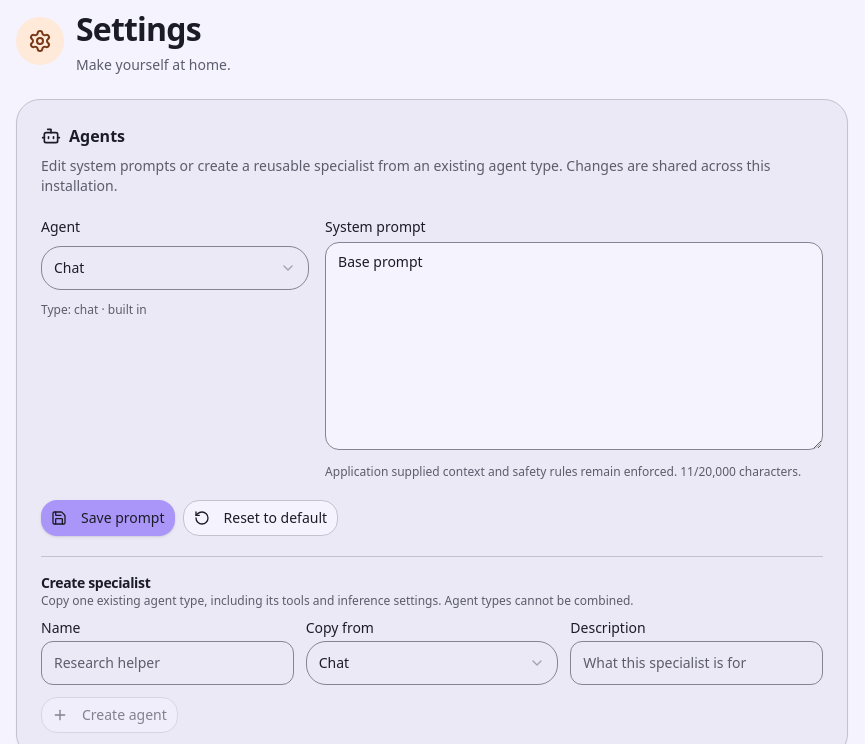
Test: SettingsPage › trims the name sent for a new specialist and selects the created profile
Type "  Research helper  " into the field labelled "Name". click: (167, 663)
box: [41, 641, 294, 685]
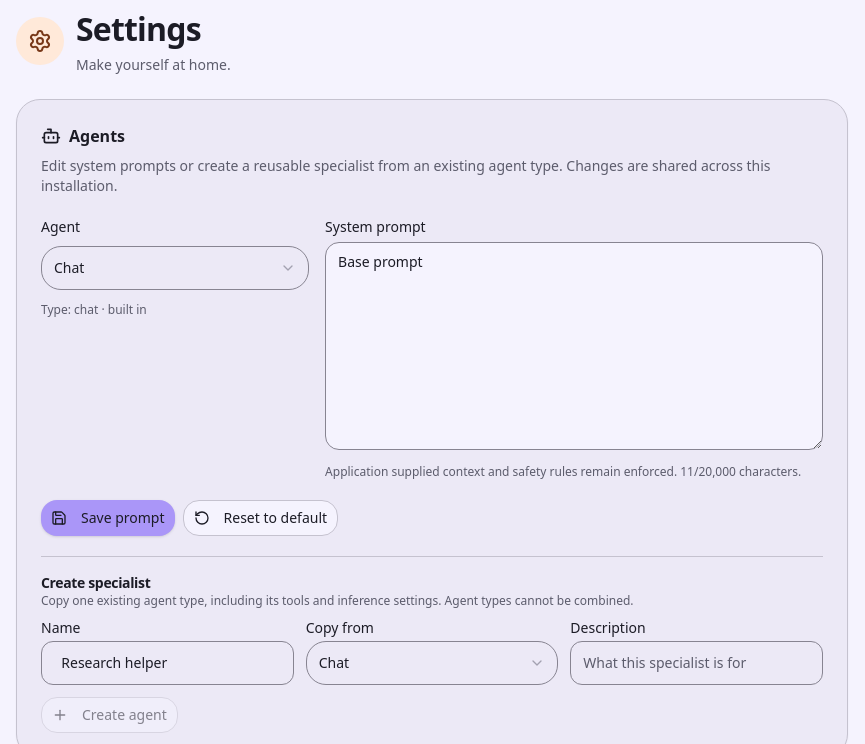
Type "Research notes" into the field labelled "Description". click: (697, 663)
box: [570, 641, 823, 685]
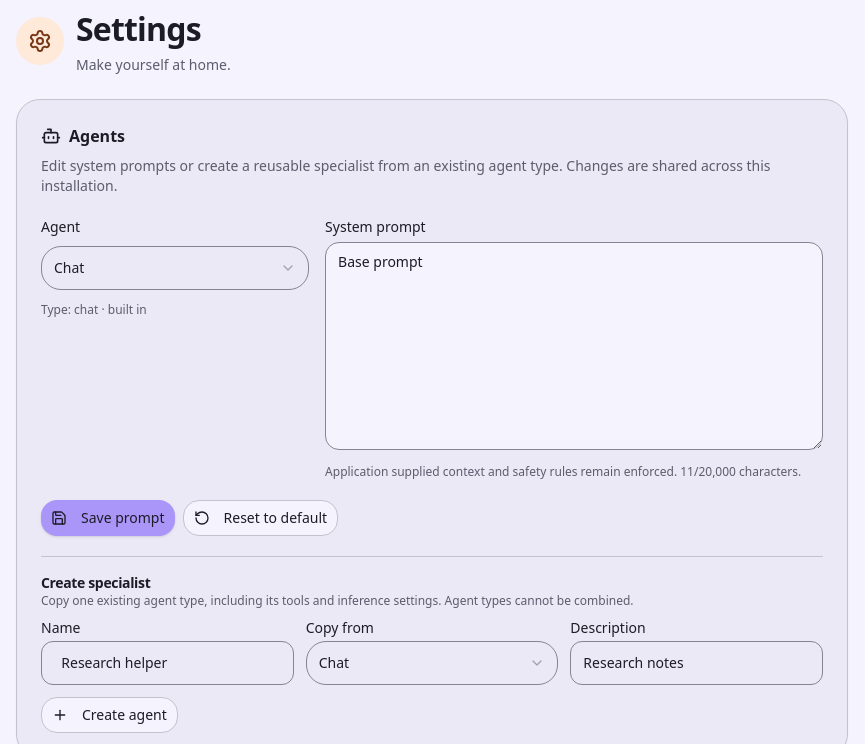
Click the button "Create agent". click: (109, 715)
box: [41, 697, 178, 733]
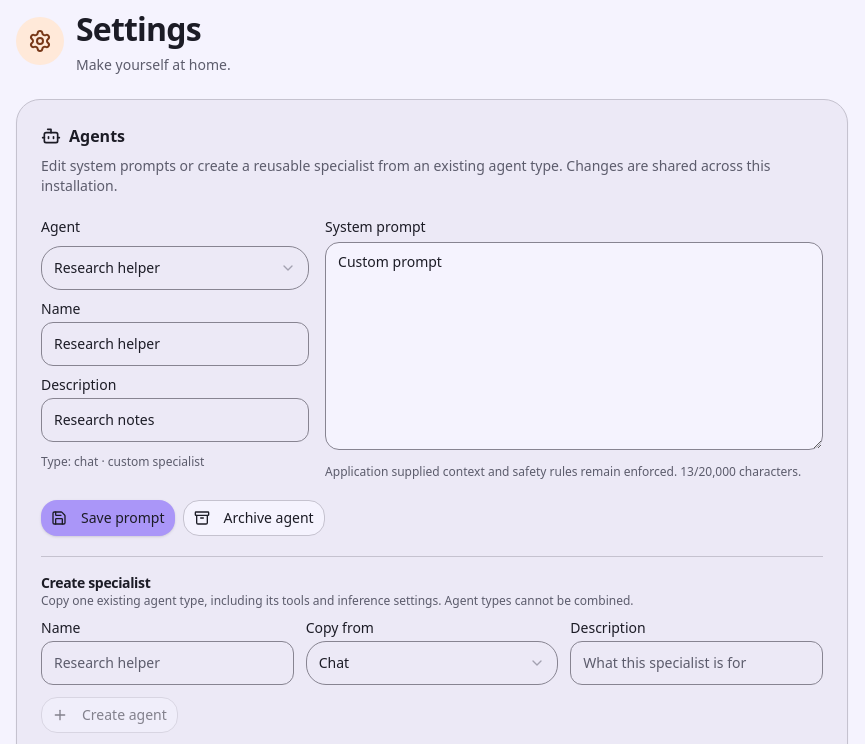
Expected: the text box showing "Custom prompt" is shown, [325, 242, 823, 450]
